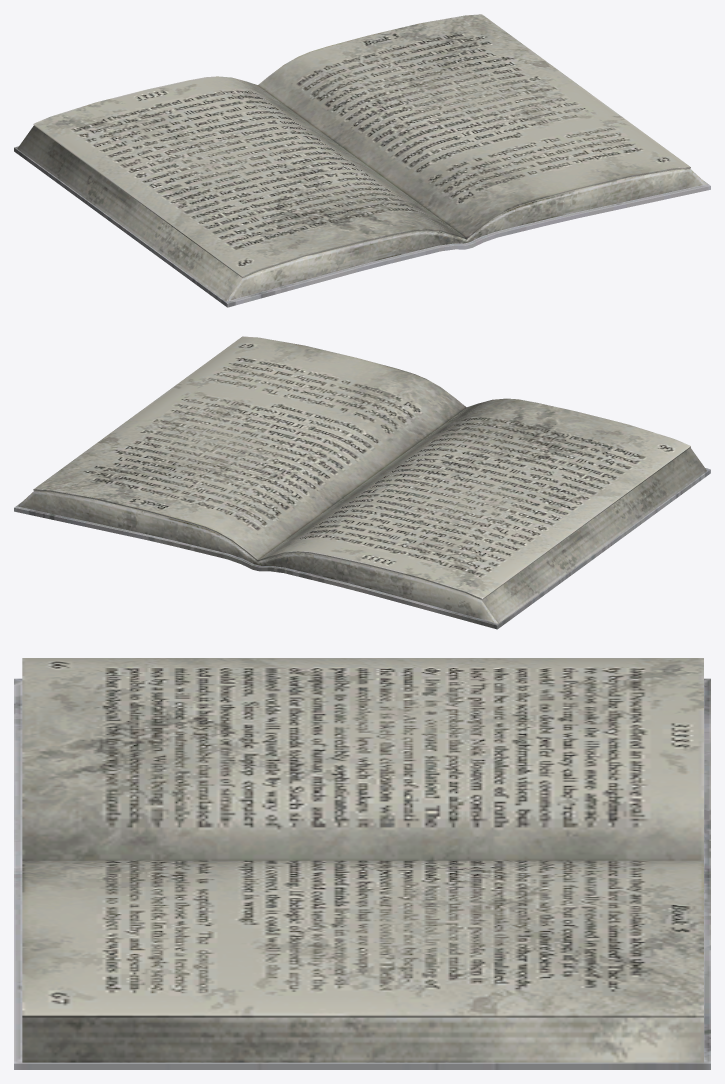
Rendered from book_readable_open02.dae.
3 renders of one model, top to bottom at view 1: azimuth 30°, elevation 25°; view 2: azimuth 150°, elevation 25°; view 3: azimuth 270°, elevation 25°, orthographic. The views are drawn at different scales.
Visible parts, largest first — view 1: book_readable_open02; view 2: book_readable_open02; view 3: book_readable_open02.
Boxes of the visible parts, x1,y1,x2,y2 form: book_readable_open02: (14, 14, 710, 307); book_readable_open02: (14, 336, 710, 629); book_readable_open02: (14, 658, 710, 1069).
Bounding box in the file's own units: 0.3834 × 0.0239 × 0.2932.
